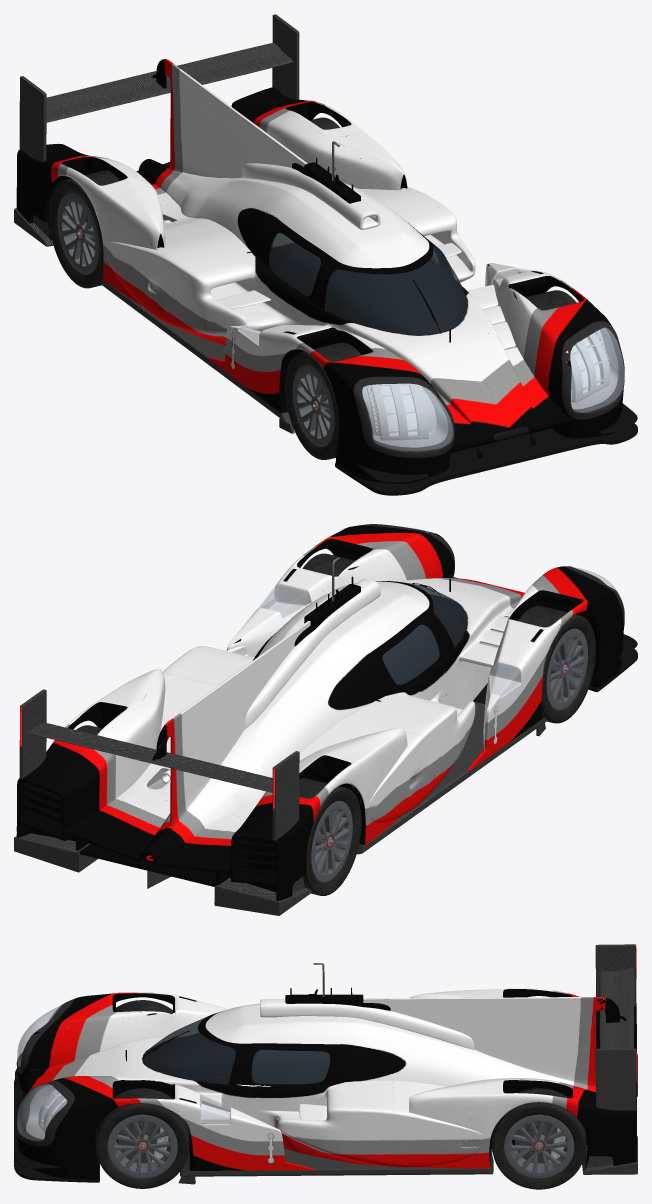
Rendered from porsche-919-hybrid-high.glb.
3 renders of one model, top to bottom at view 1: azimuth 30°, elevation 25°; view 2: azimuth 150°, elevation 25°; view 3: azimuth 270°, elevation 25°, orthographic. The views are drawn at different scales.
Visible parts, largest first — view 1: body, wheel_front_right, wheel_rear_right; view 2: body, wheel_front_right, wheel_rear_right, wheel_front_left; view 3: body, wheel_front_left, wheel_rear_left, wheel_front_right.
Part boxes in pixels (x1,y1,x2,y2): body: (14,14,637,495); wheel_front_right: (285,342,361,459); wheel_rear_right: (49,170,119,288); body: (14,524,637,915); wheel_front_right: (517,606,595,723); wheel_rear_right: (299,778,361,895); wheel_front_left: (302,553,355,576); body: (14,944,637,1184); wheel_front_left: (95,1088,189,1188); wheel_rear_left: (492,1088,585,1189); wheel_front_right: (116,1000,172,1013).
Bounding box in the file's own units: 1.93 × 1.43 × 4.65.
Materials: 29 (10 with a texture image).
